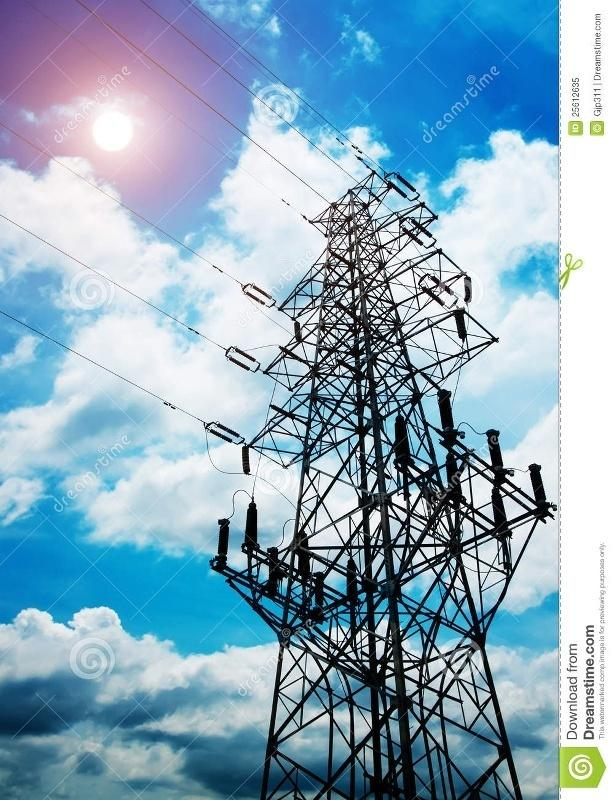power_tower: (235, 187, 541, 790)
